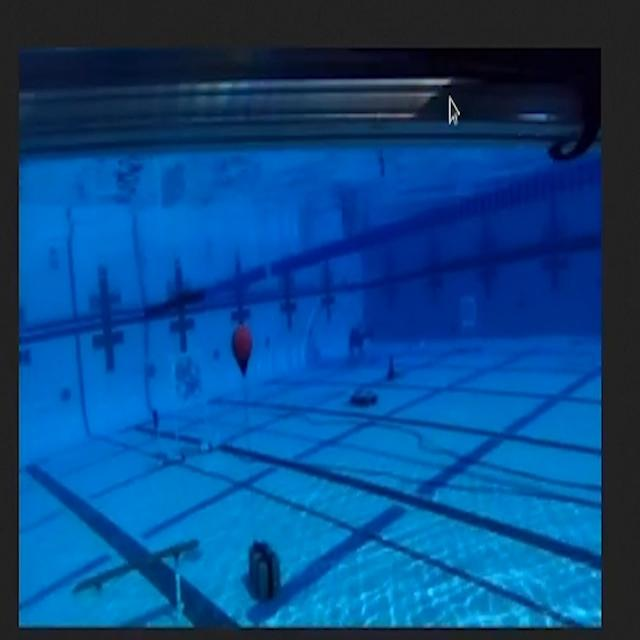Buoy: (229, 319, 259, 386)
